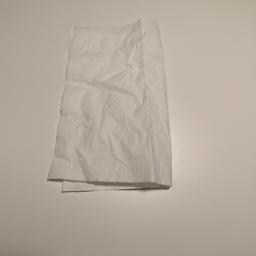Paper: (49, 19, 174, 193)
